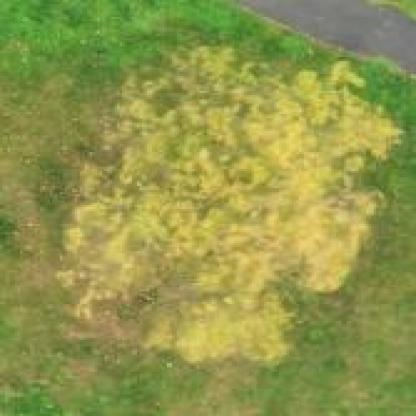Deciduous Tree: (30, 36, 384, 376)
